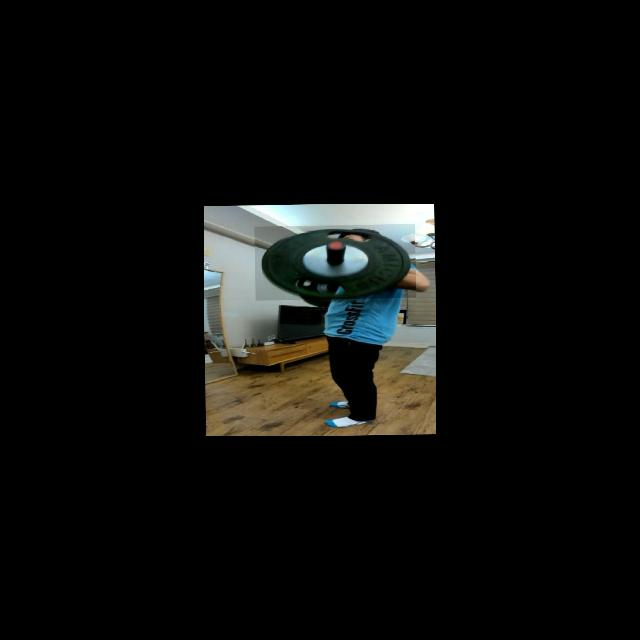barbell: (254, 224, 416, 301)
